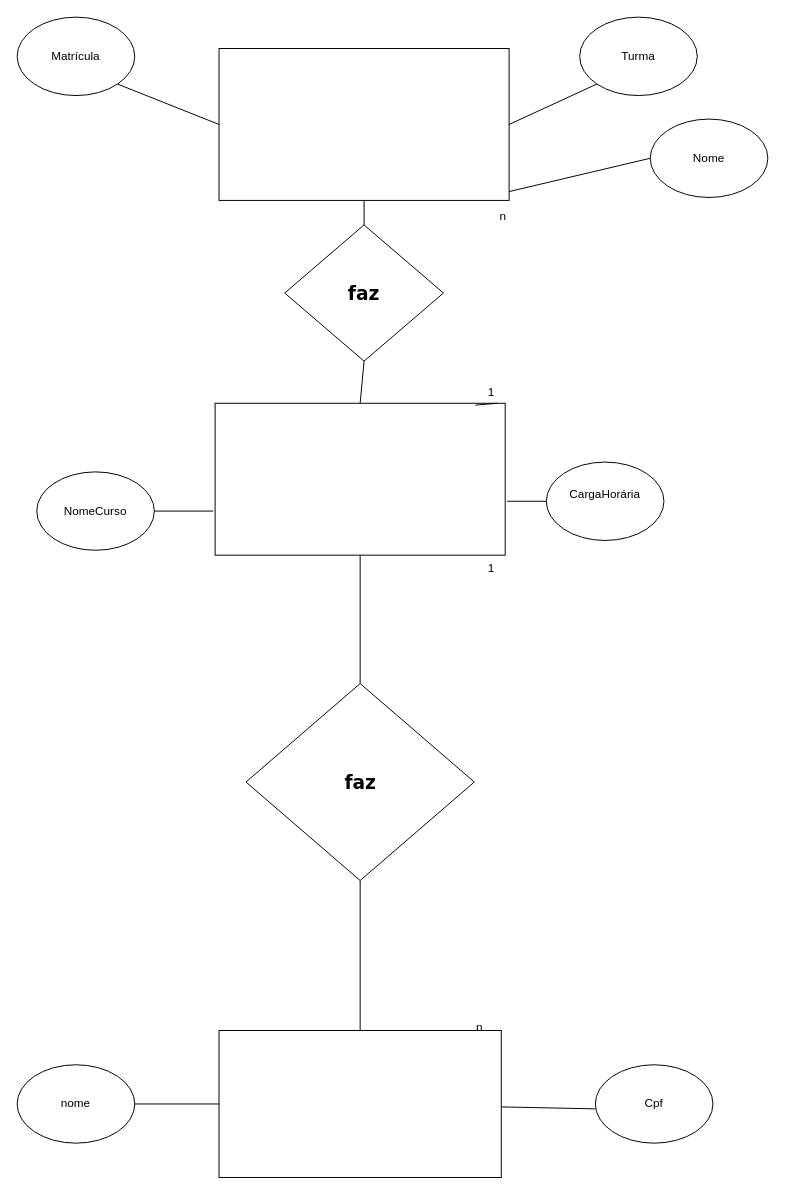
Some shapes in this 785 by 1195 pixel diagram are drawn without their labels. The centre of each missing label's shape, as x and y in pixels:
"Aluno" belongs at (363,124).
"curso" belongs at (359,478).
"Professor" belongs at (359,1103).
